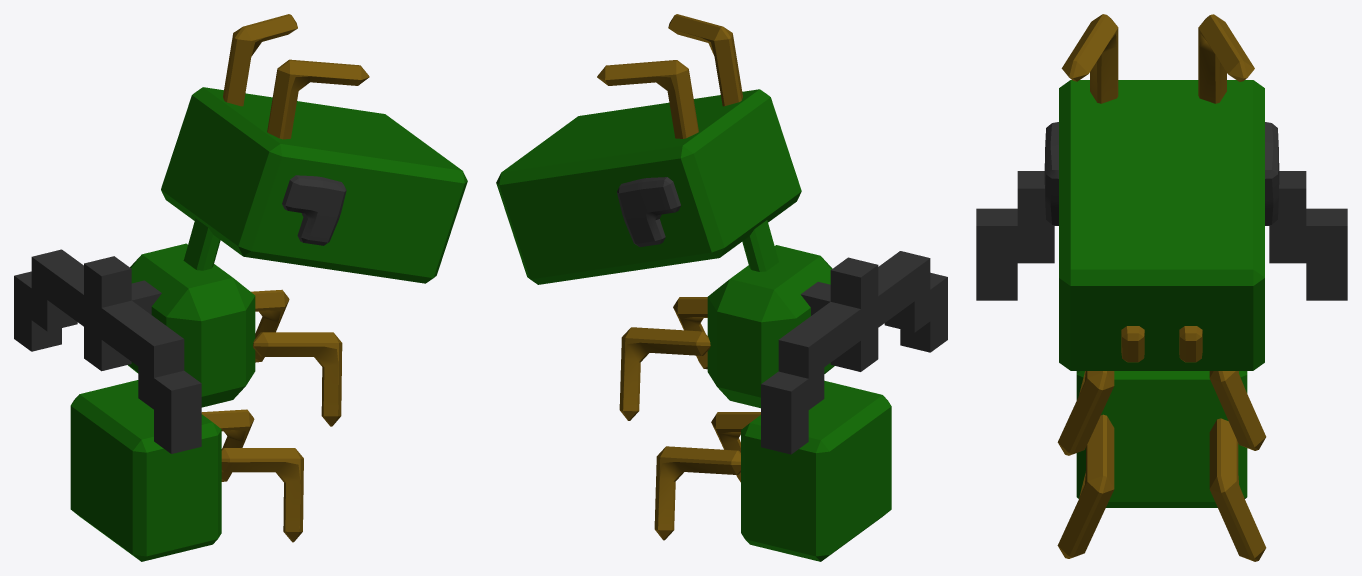
The model's file is Enemy1Scout.fbx.
3 views of the same model, side by side, from view 1: azimuth 30°, elevation 25°; view 2: azimuth 150°, elevation 25°; view 3: azimuth 270°, elevation 25° (orthographic). The views are drawn at different scales.
Visible parts, largest first — view 1: polySurface4, Torso2, Jetpack, Torso1, Leg4, Leg2, Antennae1, polySurface5, Antennae2, Leg1, Neck1, Leg3; view 2: polySurface4, Torso2, Jetpack, Torso1, Leg3, Leg1, Antennae2, polySurface6, Antennae1, Neck1, Leg2, Leg4; view 3: polySurface4, Torso2, Jetpack, Leg1, Leg2, Antennae1, Antennae2, Leg4, Leg3, polySurface5, polySurface6, polySurface2 (+1 smaller).
Boxes of the visible parts, x1,y1,x2,y2 form: polySurface4: (161,87,467,283); Torso2: (70,380,221,561); Jetpack: (14,249,201,453); Torso1: (128,243,255,407); Leg4: (253,332,342,426); Leg2: (221,448,303,542); Antennae1: (267,59,369,139); polySurface5: (282,175,346,245); Antennae2: (223,14,297,106); Leg1: (201,409,254,481); Neck1: (183,218,220,270); Leg3: (251,289,289,362); polySurface4: (496,89,801,284); Torso2: (741,380,891,561); Jetpack: (761,251,947,454); Torso1: (707,245,834,408); Leg3: (619,327,710,420); Leg1: (654,446,740,540); Antennae2: (597,60,698,138); polySurface6: (617,177,680,246); Antennae1: (668,14,742,106); Neck1: (742,220,778,271); Leg2: (711,412,760,482); Leg4: (673,297,707,369); polySurface4: (1059,80,1264,370); Torso2: (1076,371,1247,507); Jetpack: (976,171,1347,300); Leg1: (1209,418,1266,561); Leg2: (1057,414,1114,558); Antennae1: (1061,14,1118,103); Antennae2: (1198,14,1254,103); Leg4: (1057,371,1114,455); Leg3: (1209,371,1266,450); polySurface5: (1044,122,1058,225); polySurface6: (1265,122,1279,225); polySurface2: (1121,326,1144,362).
Bounding box in the file's own units: 33.33 × 44.31 × 27.
